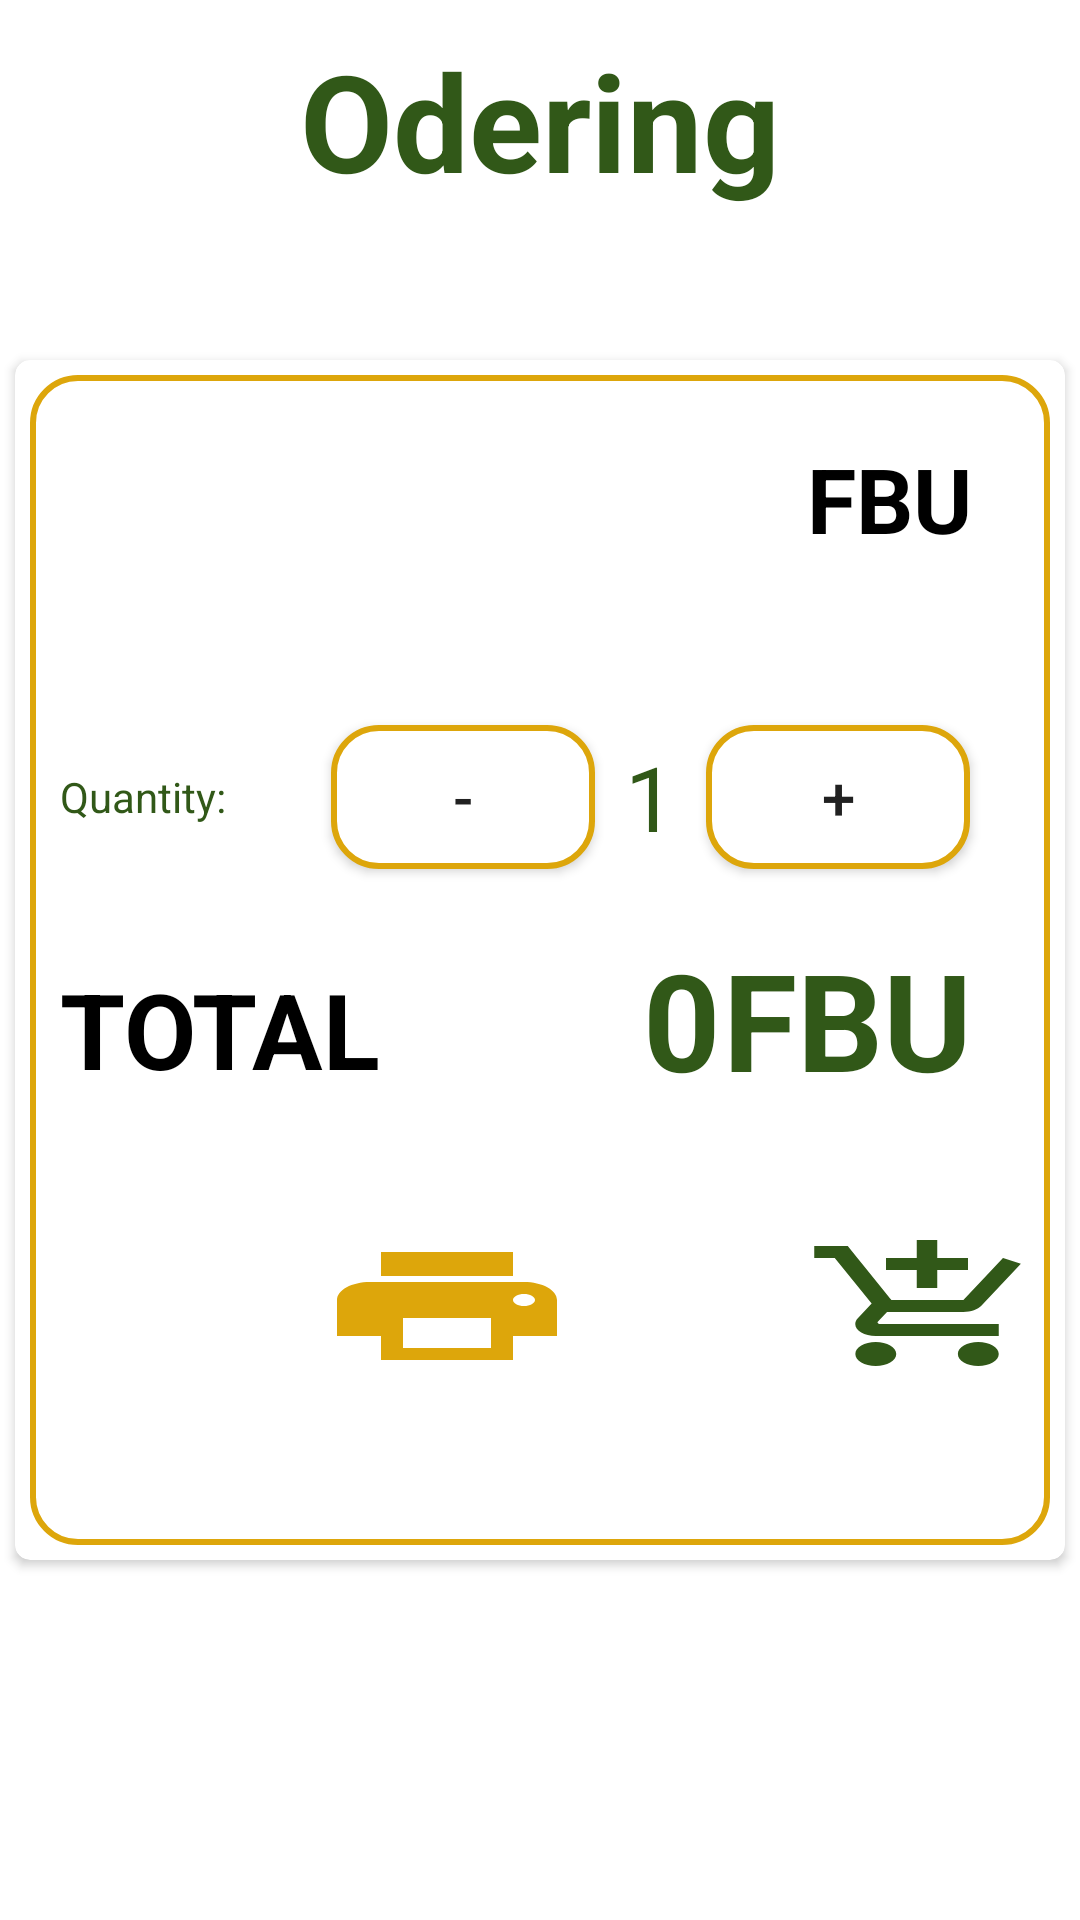

Icons on this 1080px x 1920px Android screen, each with its box as rect(x1, y1, x2, y2):
add shopping cart: rect(814, 1240, 1021, 1366)
print: rect(337, 1252, 557, 1360)
